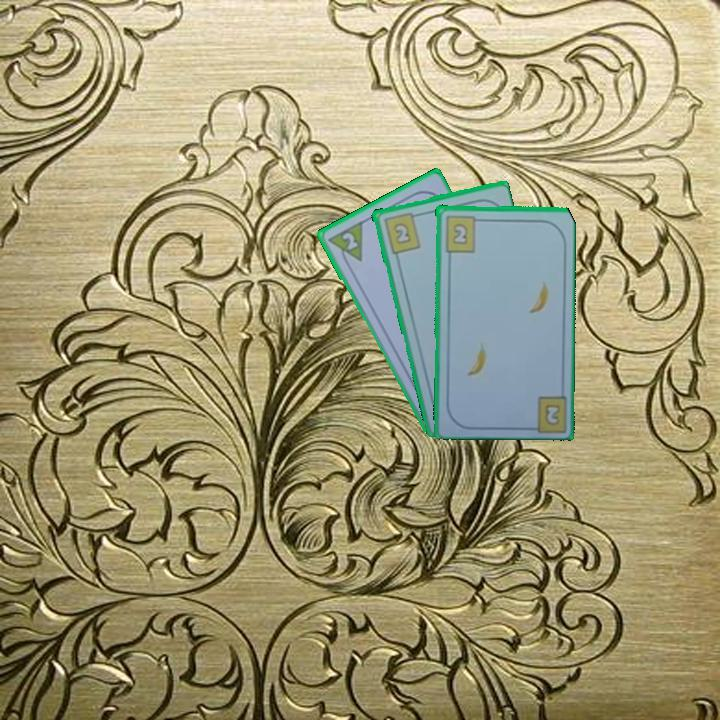2b: (380, 208, 423, 256), (441, 212, 484, 254), (541, 400, 563, 428)
2p: (324, 217, 365, 270)
